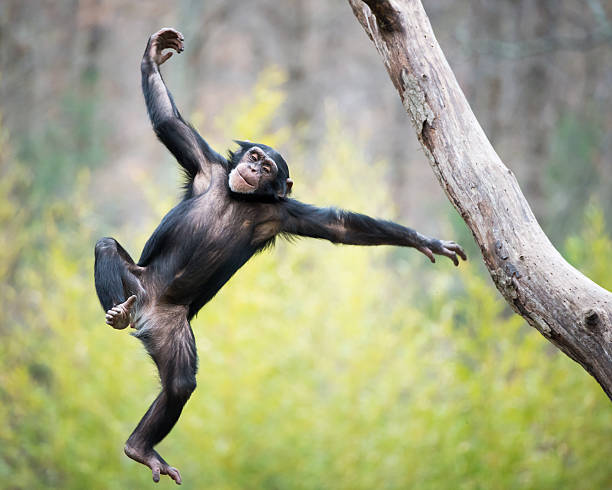chimpanzee: (211, 121, 300, 218)
